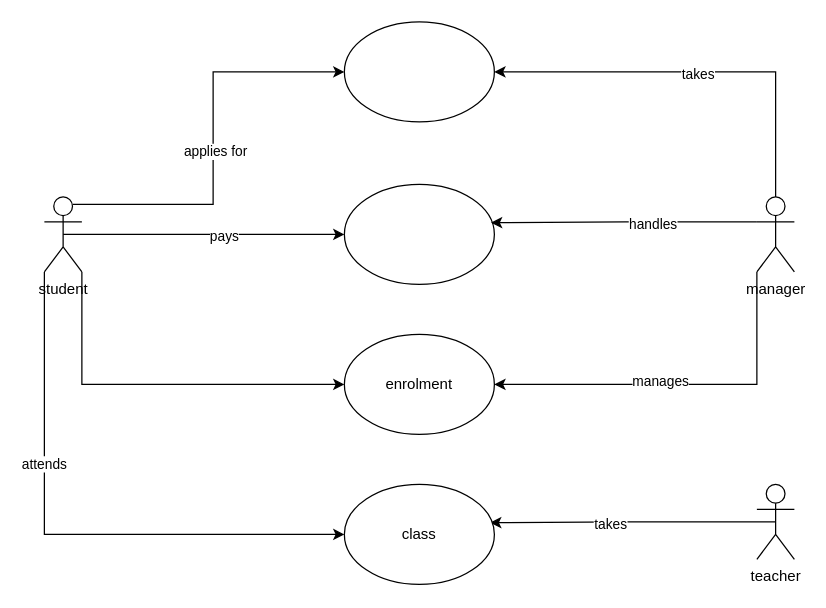
Some shapes in this 826 by 608 pixel diagram are drawn without their labels. Here are the shapes that lost their labels. From the top down, the centre of each, then its label:
At pixel 418 71: "registeration".
At pixel 418 233: "payment".
